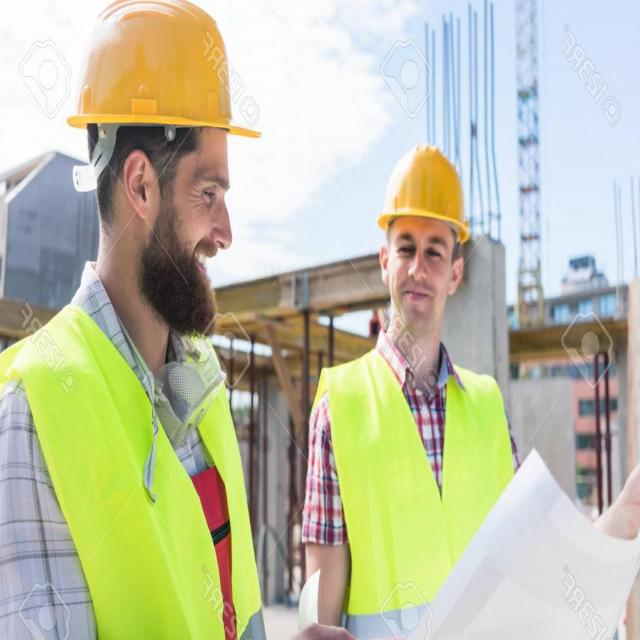Reflective-Jacket: (3, 308, 264, 638), (313, 345, 517, 629)
Safety-Helmet: (64, 0, 258, 148), (374, 136, 474, 244)
